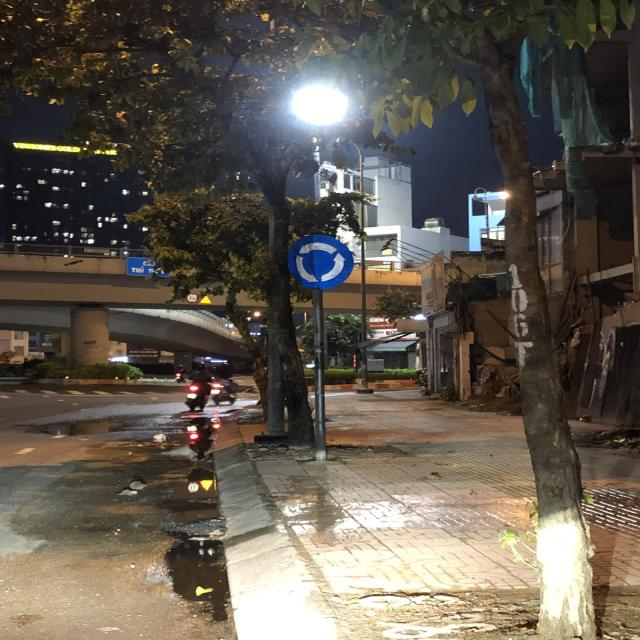Bien bao noi giao nhau chay theo vong xuyen: (286, 232, 358, 292)
